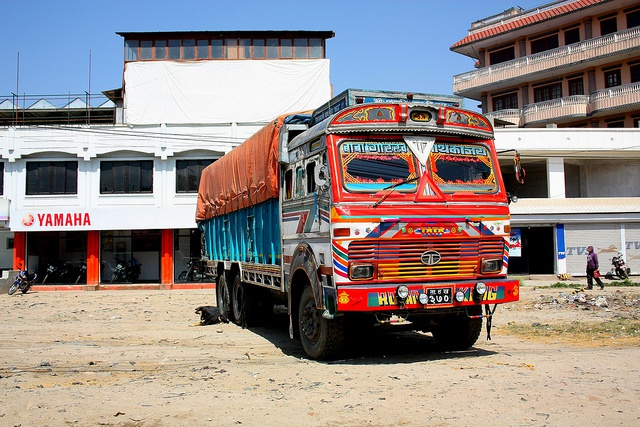non-vehicle: (178, 257, 215, 282), (7, 266, 36, 297), (110, 258, 142, 283), (74, 261, 105, 284), (41, 261, 71, 284), (610, 252, 630, 279)
